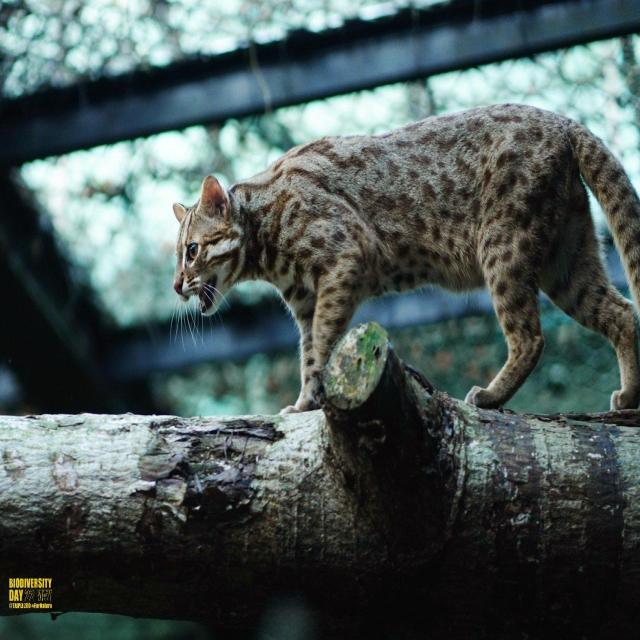leopard: (181, 143, 588, 380)
